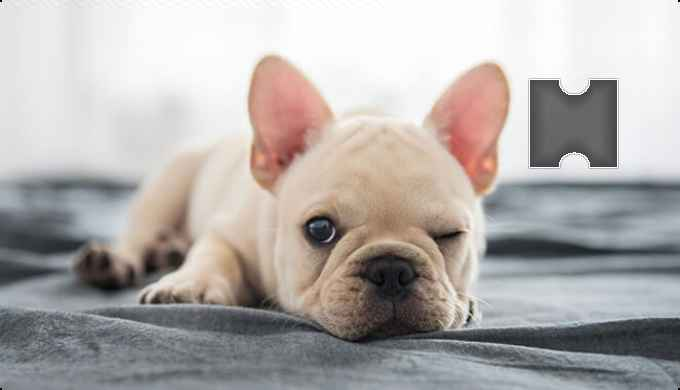gap: (533, 75, 616, 168)
